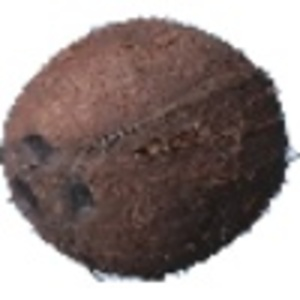coco: (1, 18, 300, 283)
